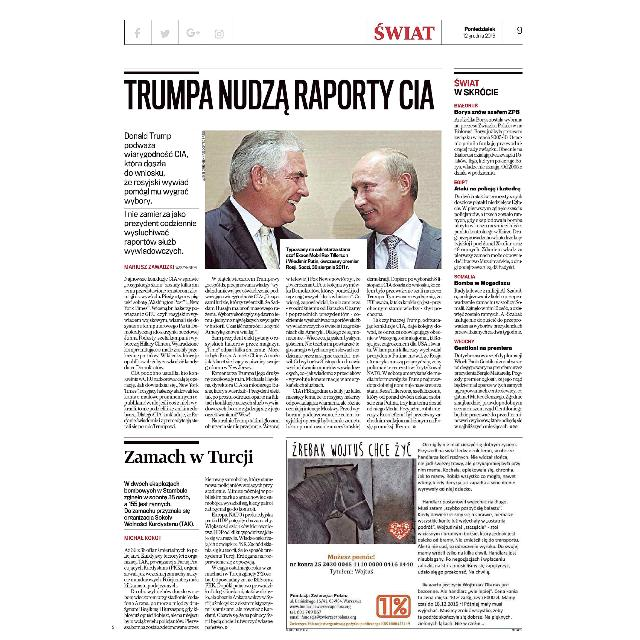article: (122, 69, 446, 435), (120, 439, 278, 633), (452, 69, 526, 433)
